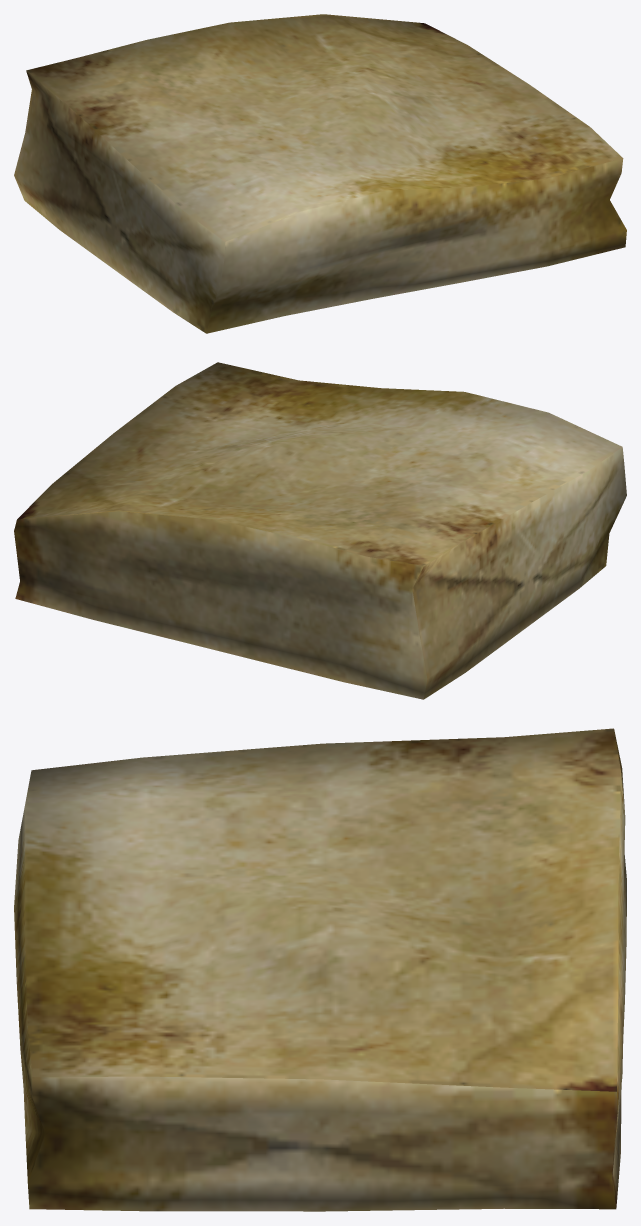
File: cardboard01.DAE
3 renders of one model, top to bottom at view 1: azimuth 30°, elevation 25°; view 2: azimuth 150°, elevation 25°; view 3: azimuth 270°, elevation 25°, orthographic. The views are drawn at different scales.
Visible parts, largest first — view 1: cardboard01; view 2: cardboard01; view 3: cardboard01.
Part boxes in pixels (x1,y1,x2,y2): cardboard01: [14, 14, 626, 333]; cardboard01: [14, 362, 626, 699]; cardboard01: [14, 728, 626, 1211].
Size of the model in its own units: 24.05 by 7.37 by 20.81.
